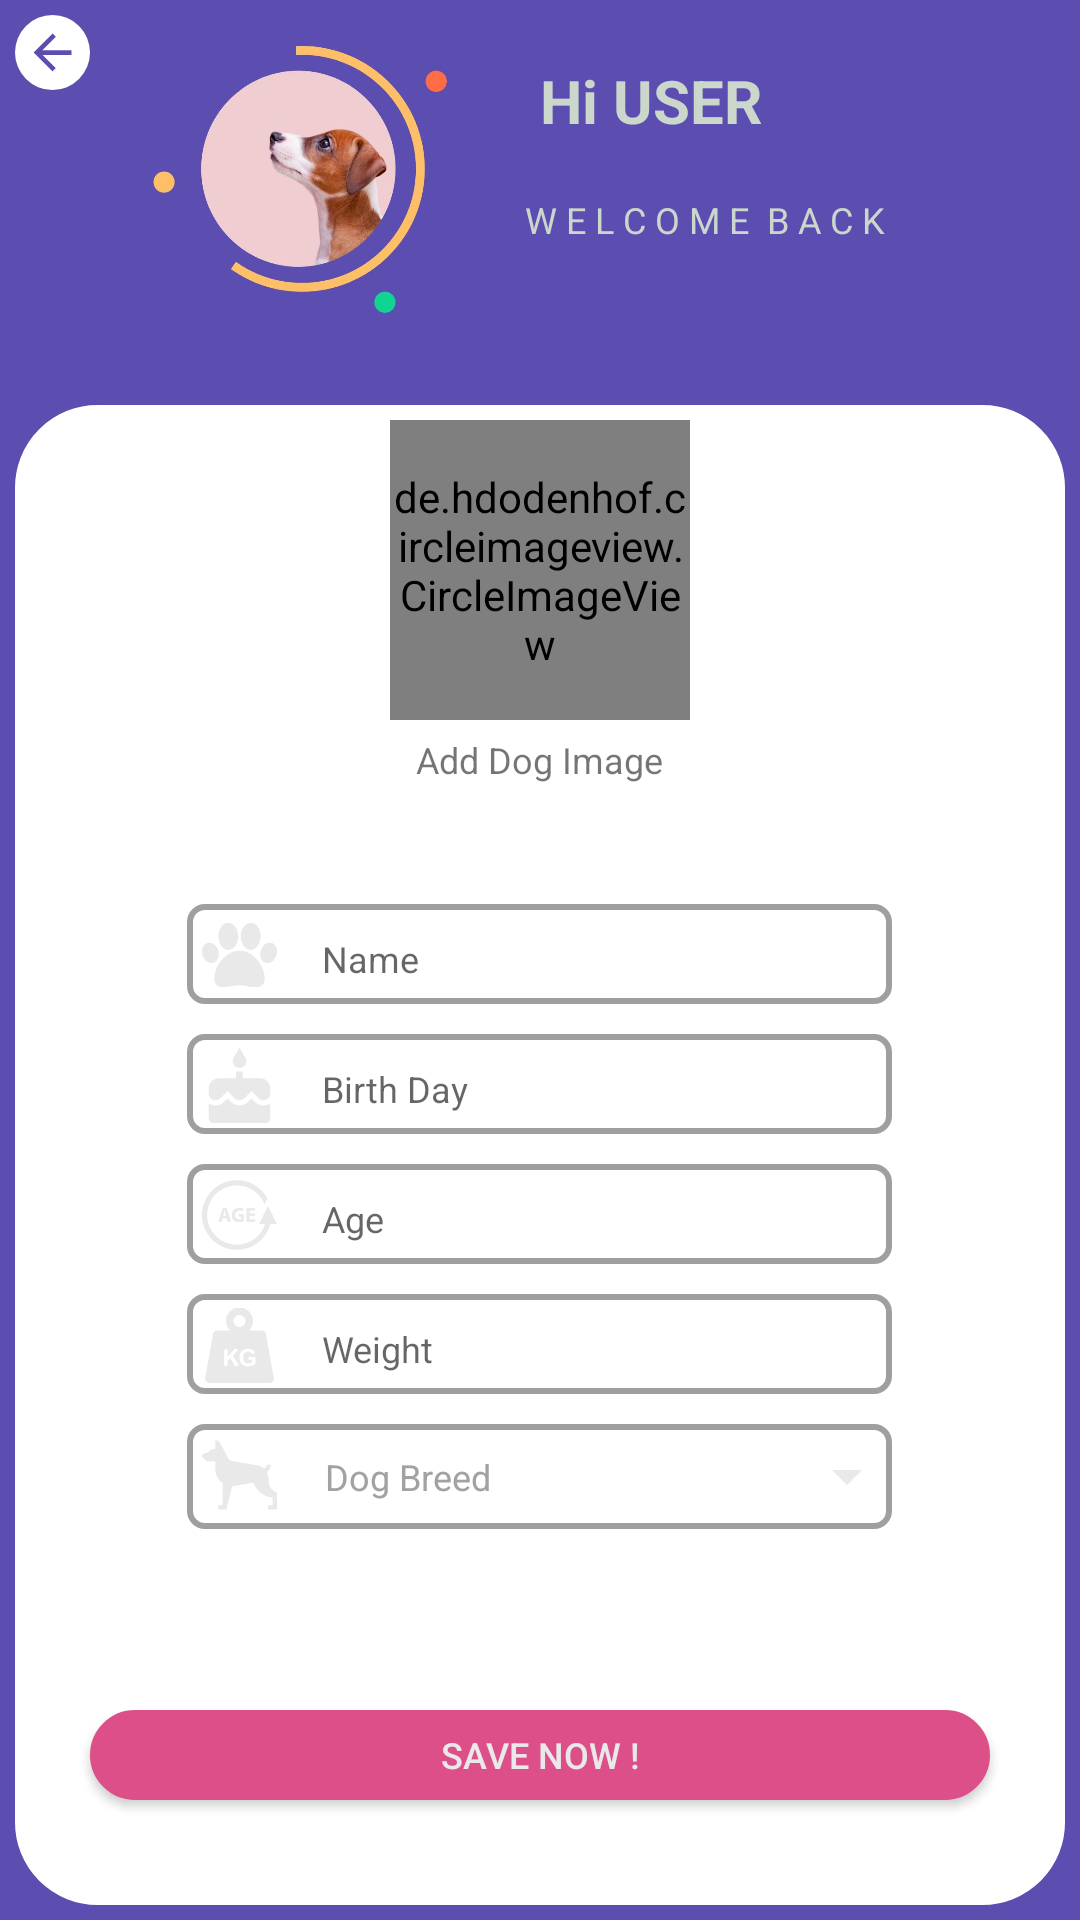

Icons on this 1080x1920 Android screen, each with the point to tap as (x,y):
back: (52,52)
cake: (232,1079)
dog hand: (232,949)
